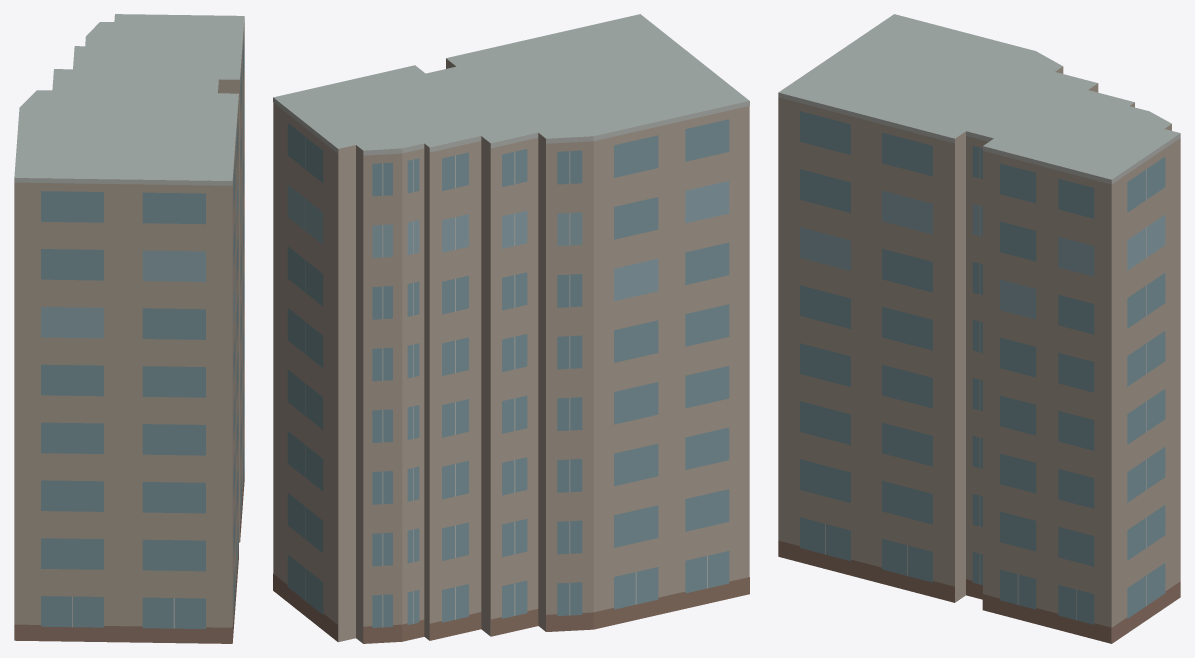
Rendered from survey-upis-32742462.glb.
3 renders of one model, left to right at view 1: azimuth 30°, elevation 25°; view 2: azimuth 150°, elevation 25°; view 3: azimuth 270°, elevation 25°, orthographic. The views are drawn at different scales.
Parts seen in each view (by area): view 1: survey-upis-32742462.tmp; view 2: survey-upis-32742462.tmp; view 3: survey-upis-32742462.tmp.
Boxes of the visible parts, x1,y1,x2,y2 form: survey-upis-32742462.tmp: (14,14,244,643); survey-upis-32742462.tmp: (273,14,749,643); survey-upis-32742462.tmp: (778,14,1180,643).
Bounding box in the file's own units: 18.54 × 24.2 × 19.02.
